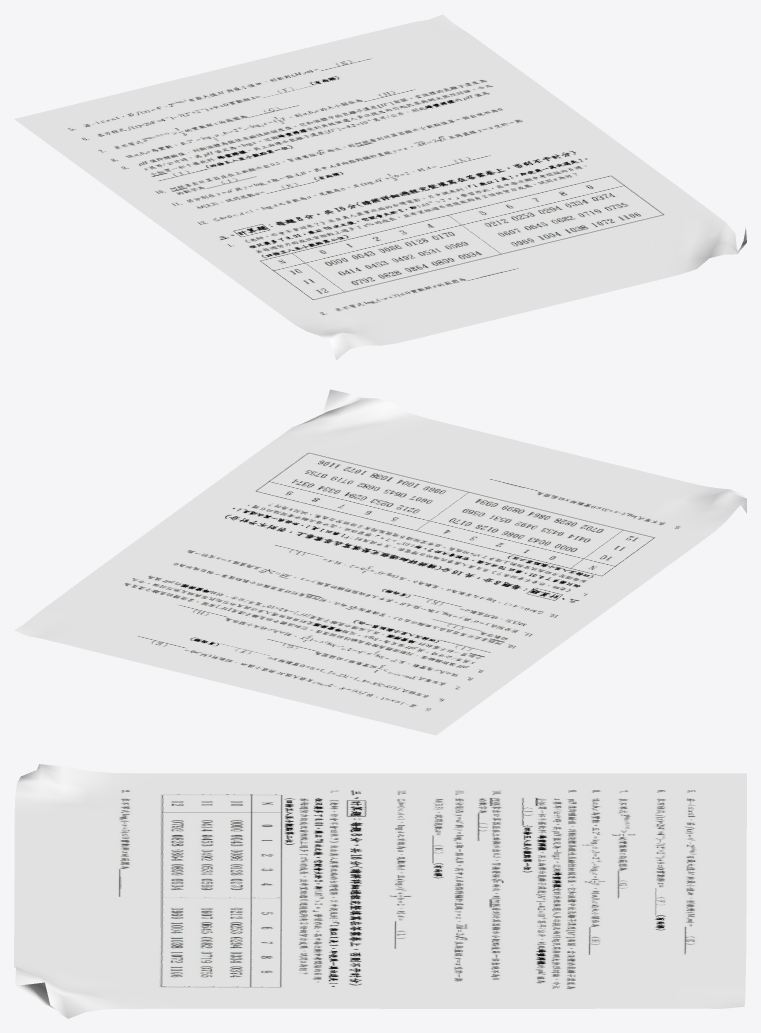
Rendered from 考試卷3.fbx.
3 views of the same model, one above another, from view 1: azimuth 30°, elevation 25°; view 2: azimuth 150°, elevation 25°; view 3: azimuth 270°, elevation 25° (orthographic). The views are drawn at different scales.
Parts seen in each view (by area): view 1: Plane001; view 2: Plane001; view 3: Plane001.
Part boxes in pixels (bbox=[...]): Plane001: bbox=[14, 14, 746, 360]; Plane001: bbox=[14, 389, 746, 735]; Plane001: bbox=[14, 764, 746, 1018].
Bounding box in the file's own units: 29.99 × 2.12 × 39.43.
Materials: 1 (1 with a texture image).
